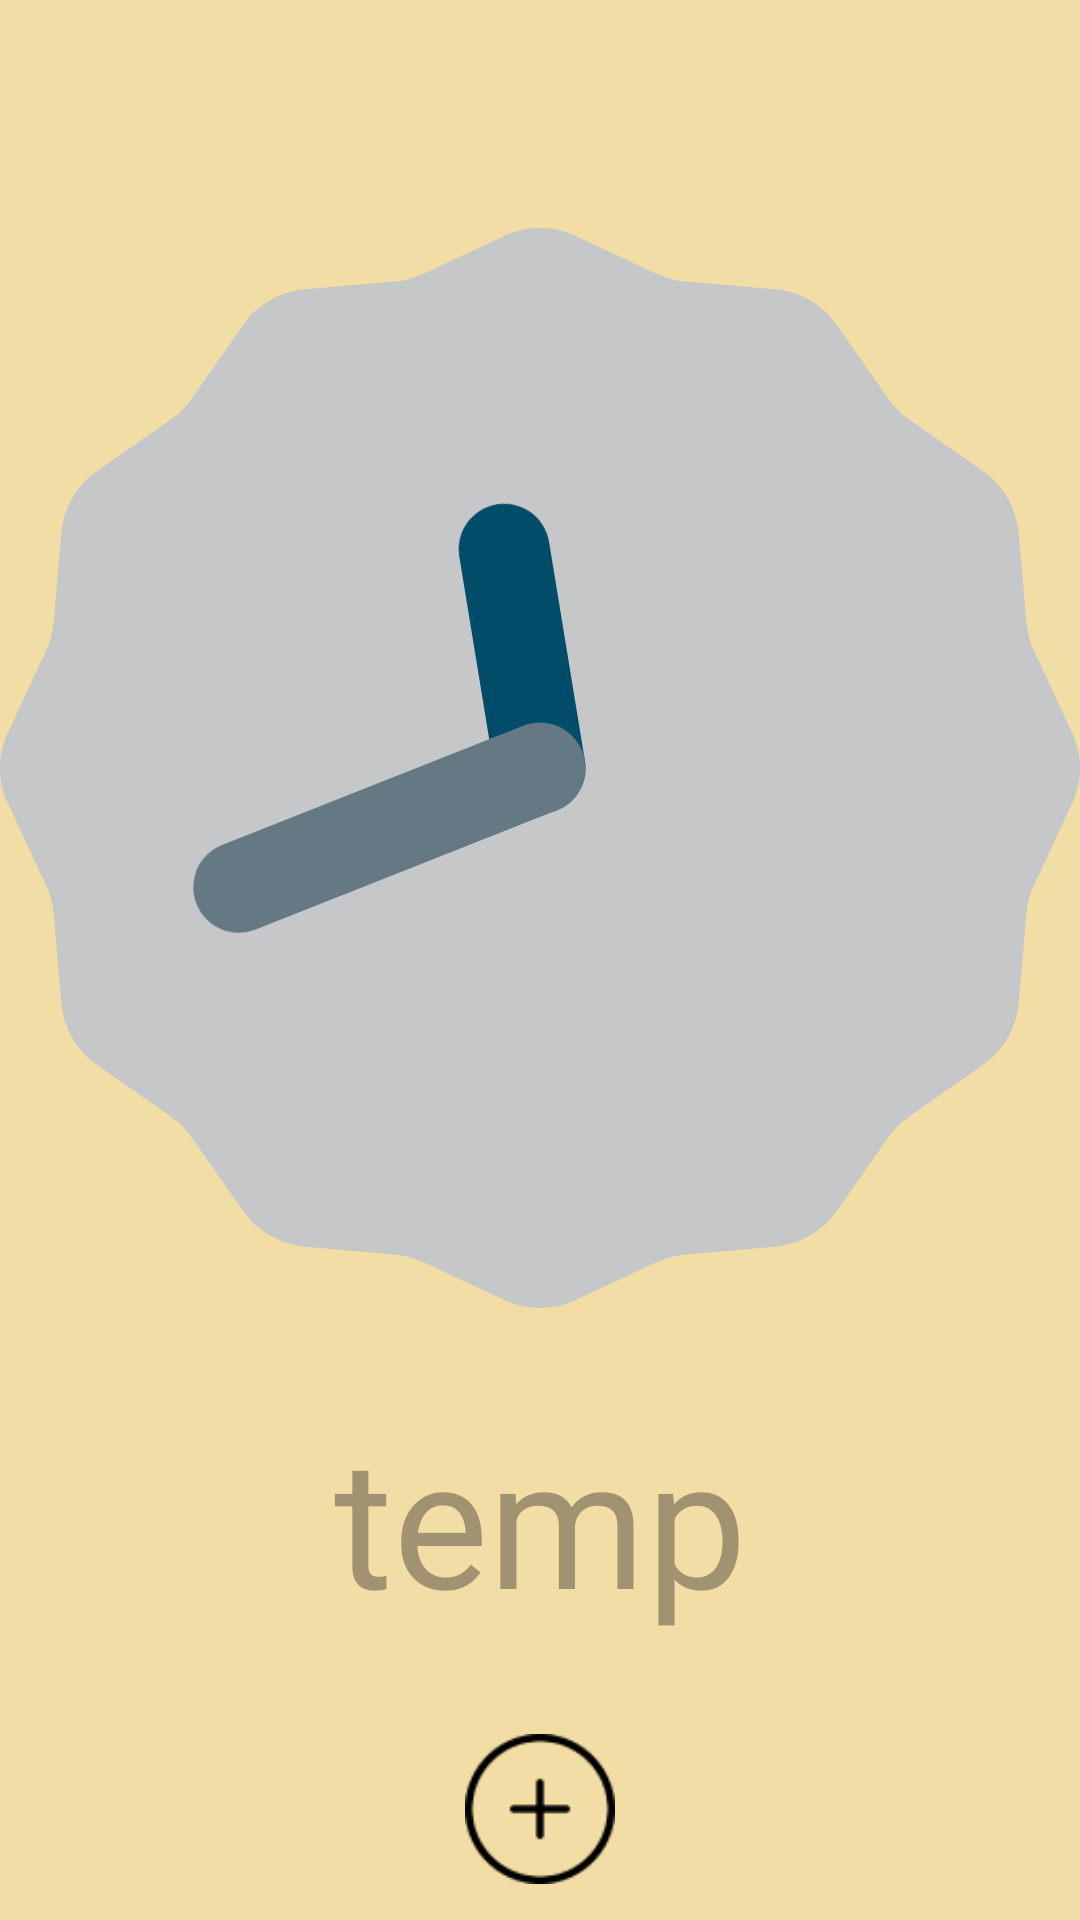

Locate icon controls on the screen. Image size 1080 x 1920, boxes as (left=x1, top=y1, right=x2, bottom=y2).
addbutton: (left=465, top=1734, right=615, bottom=1884)
